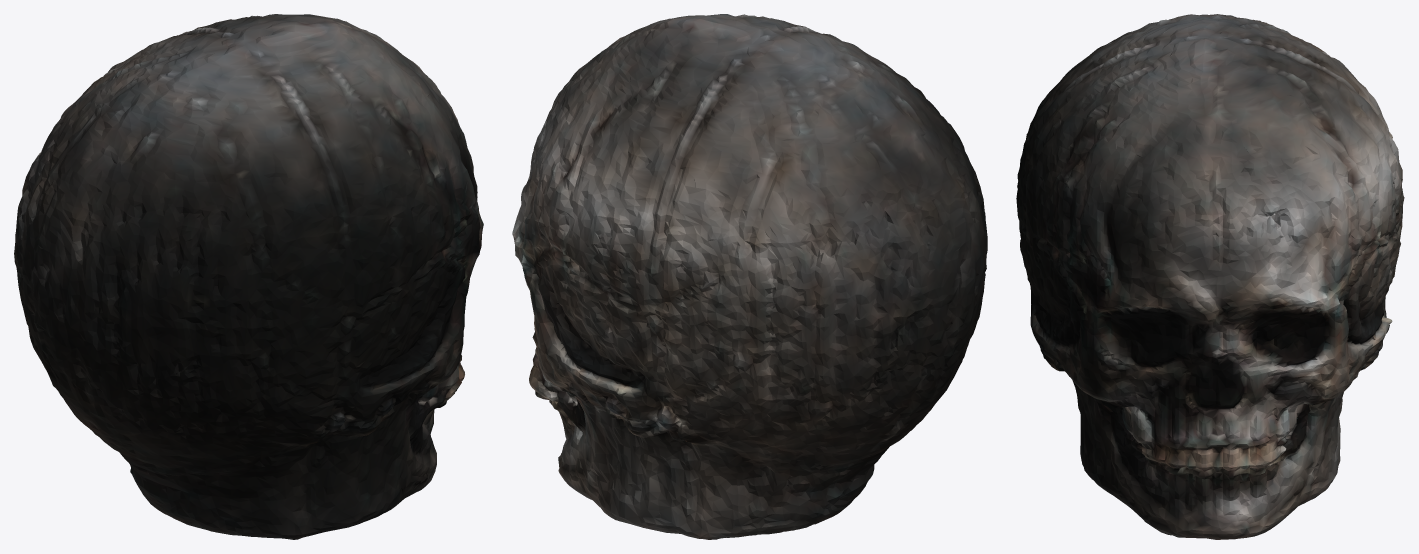
The model's file is JohnnySkull.fbx.
3 views of the same model, side by side, from view 1: azimuth 30°, elevation 25°; view 2: azimuth 150°, elevation 25°; view 3: azimuth 270°, elevation 25° (orthographic). The views are drawn at different scales.
Parts seen in each view (by area): view 1: meshsave_00018_; view 2: meshsave_00018_; view 3: meshsave_00018_.
Boxes of the visible parts, x1=… form: meshsave_00018_: x1=14, y1=14, x2=483, y2=539; meshsave_00018_: x1=512, y1=14, x2=987, y2=539; meshsave_00018_: x1=1016, y1=14, x2=1404, y2=539.
Bounding box in the file's own units: 90.37 × 97.56 × 77.96.
